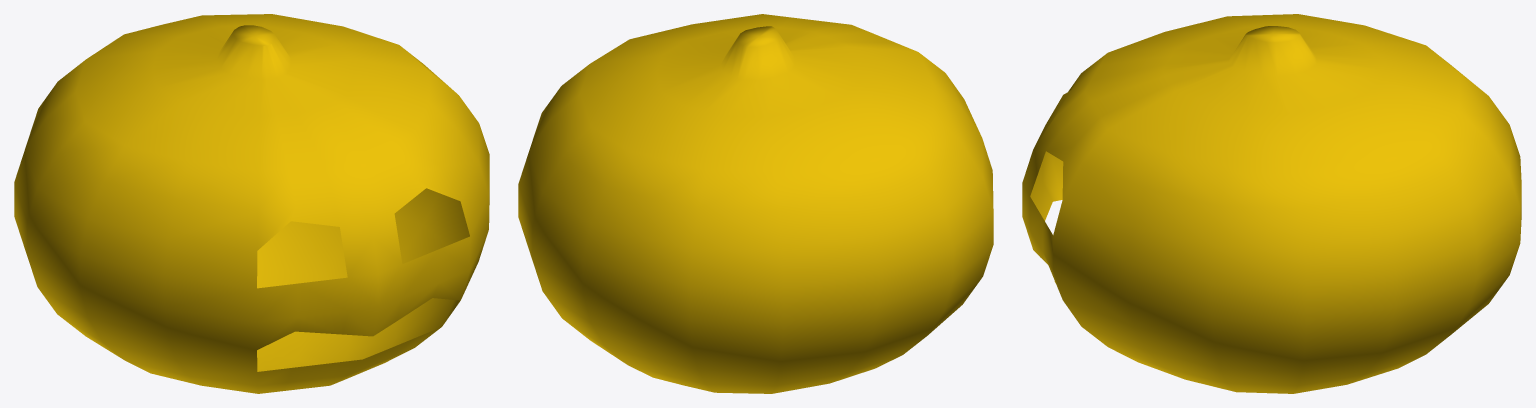
The model's file is GhostTank.fbx.
3 views of the same model, side by side, from view 1: azimuth 30°, elevation 25°; view 2: azimuth 150°, elevation 25°; view 3: azimuth 270°, elevation 25° (orthographic).
Visible parts, largest first — view 1: TankGhost; view 2: TankGhost; view 3: TankGhost.
Boxes of the visible parts, <box> form: TankGhost: <box>14,14,489,393</box>; TankGhost: <box>518,14,993,393</box>; TankGhost: <box>1022,14,1521,393</box>.
Size of the model in its own units: 2.66 by 1.89 by 2.69.
